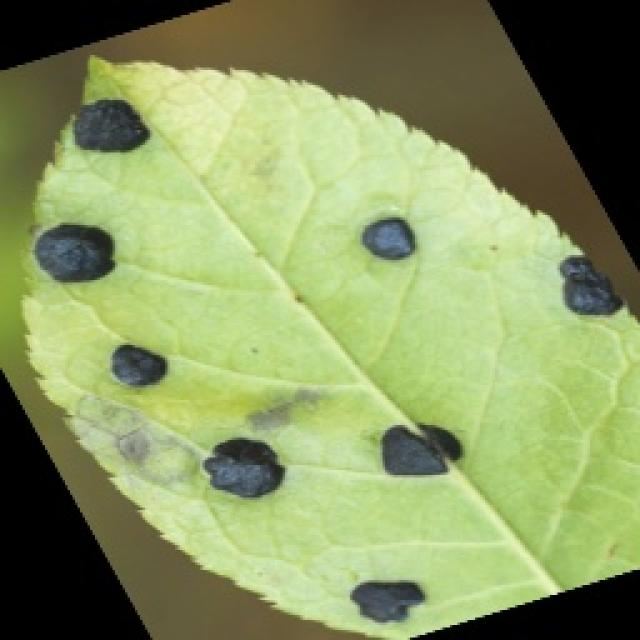Tar_Spot: (15, 50, 637, 638)
